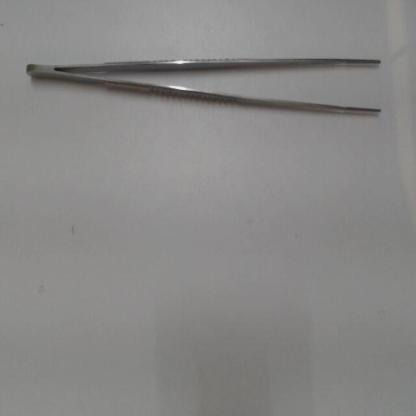DeBakey Dissector: (23, 43, 388, 126)
